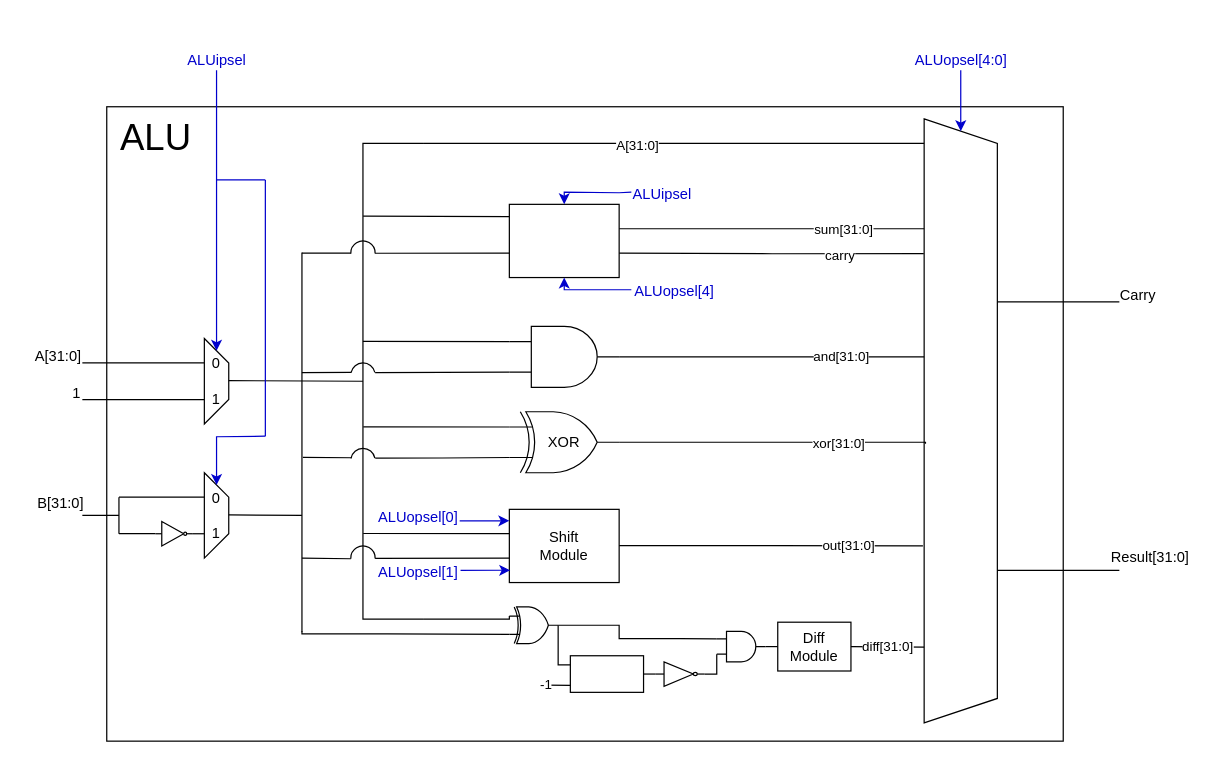
The diagram is 1225 pixels wide and 763 high, and some of its shapes have lost their labels. Here are the shapes that lost their labels. From the top down, the centre of each, then its label:
the point at 563,240: 32-bit Adder
the point at 563,356: ADD
the point at 606,673: Adder
